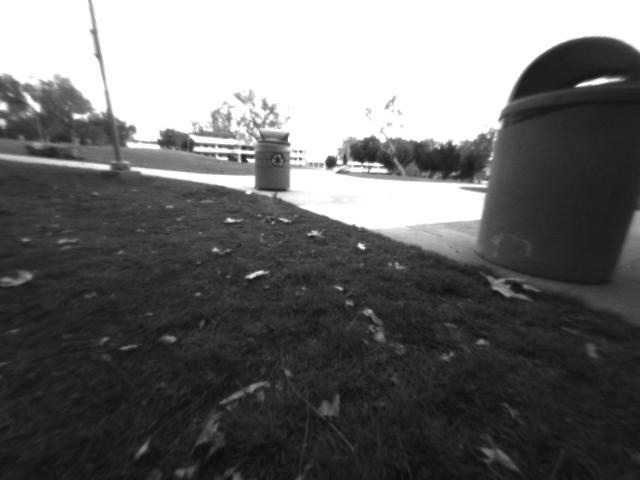trashcan: (475, 21, 640, 318)
